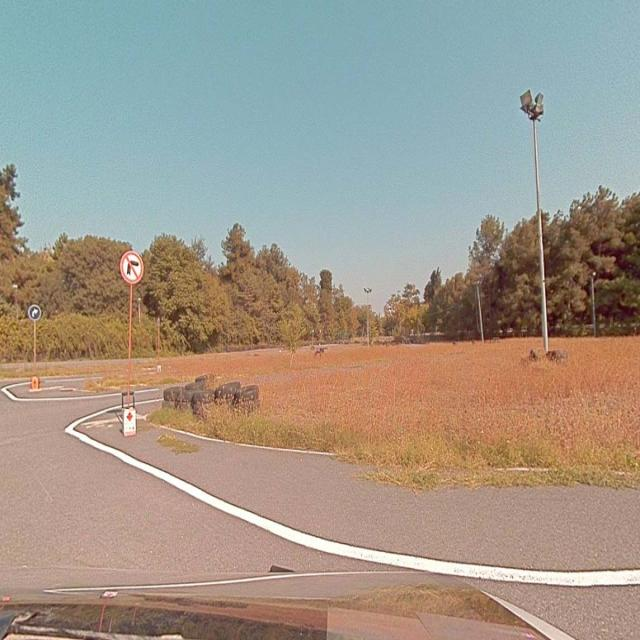sag: (29, 305, 40, 320)
sagadonulmez: (123, 250, 143, 282)
